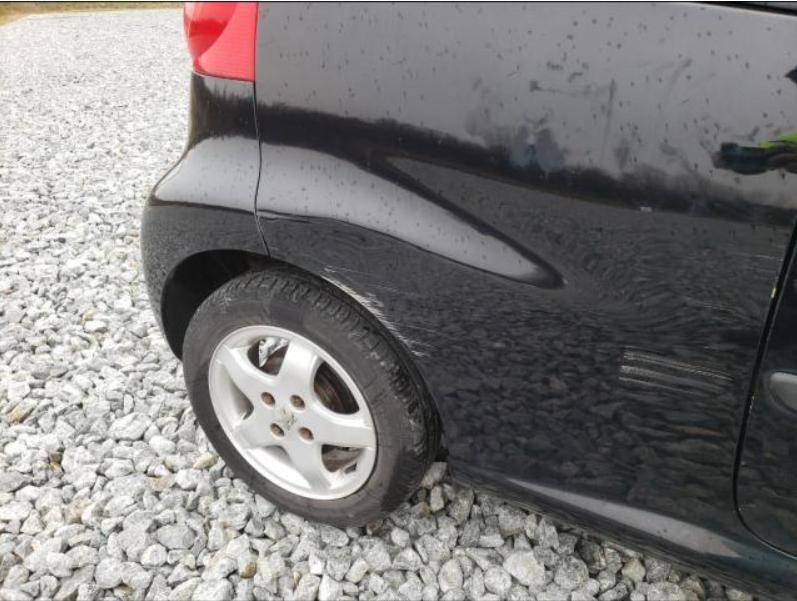Back-bumper: (140, 71, 269, 323)
Back-door: (734, 233, 796, 557)
Back-wheel: (181, 268, 441, 530)
Quarter-panel: (255, 0, 796, 552)
Rocker-panel: (447, 455, 796, 600)
Tail-light: (183, 0, 256, 83)
